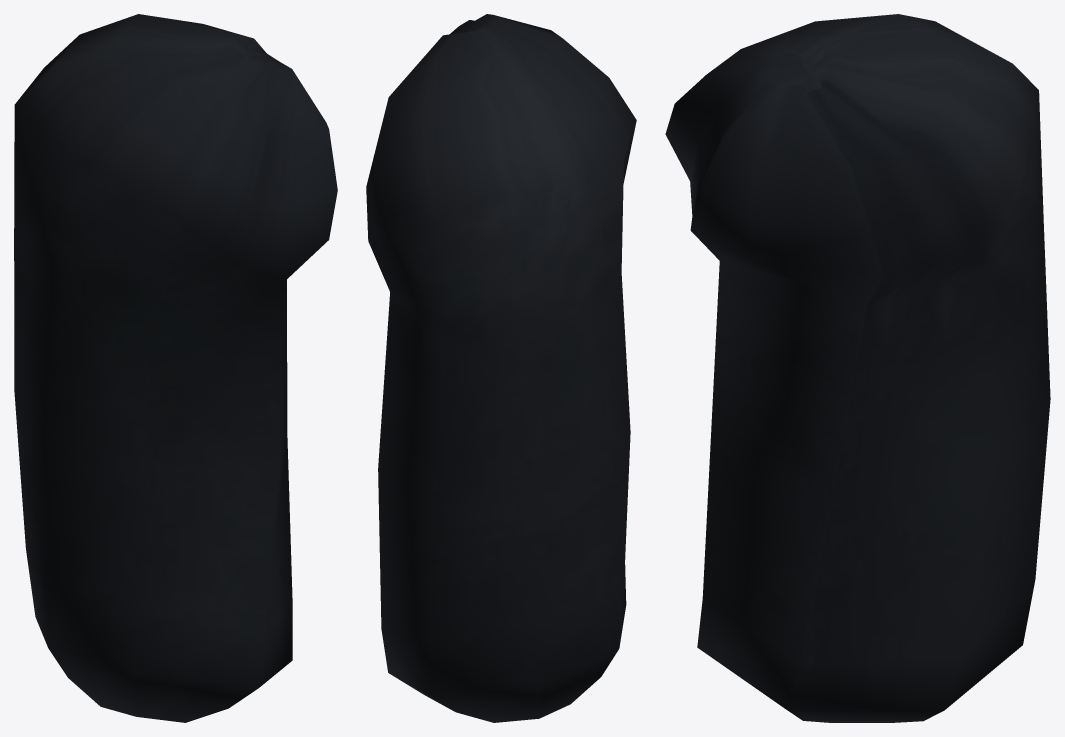
Rendered from LeftLeg1.dae.
3 renders of one model, left to right at view 1: azimuth 30°, elevation 25°; view 2: azimuth 150°, elevation 25°; view 3: azimuth 270°, elevation 25°, orthographic. The views are drawn at different scales.
Visible parts, largest first — view 1: H_DDS_LowRes_009; view 2: H_DDS_LowRes_009; view 3: H_DDS_LowRes_009.
Part boxes in pixels (x1,y1,x2,y2): H_DDS_LowRes_009: (14, 14, 337, 722); H_DDS_LowRes_009: (366, 14, 636, 722); H_DDS_LowRes_009: (665, 14, 1050, 722).
Size of the model in its own units: 0.1674 by 0.2219 by 0.4409.
1 material, 1 textured.
